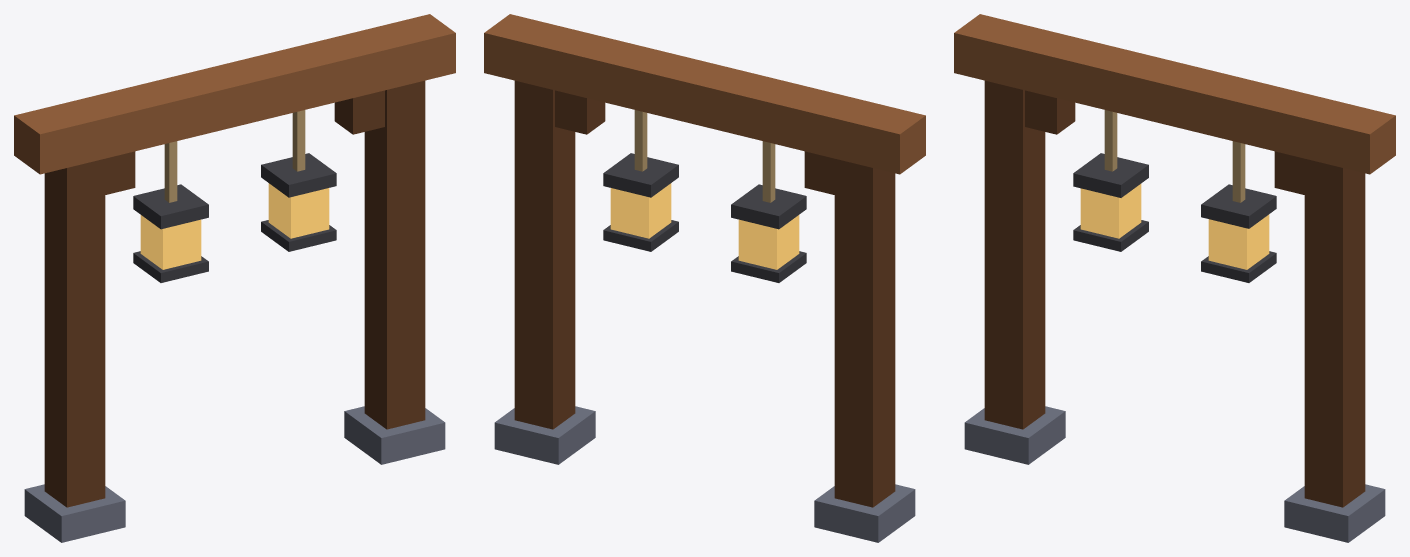
The model's file is WoodFrame.glb.
3 views of the same model, side by side, from view 1: azimuth 30°, elevation 25°; view 2: azimuth 150°, elevation 25°; view 3: azimuth 330°, elevation 25° (orthographic).
Parts seen in each view (by area): view 1: WoodFrame; view 2: WoodFrame; view 3: WoodFrame.
Boxes of the visible parts, x1=… form: WoodFrame: x1=14, y1=14, x2=455, y2=542; WoodFrame: x1=484, y1=14, x2=925, y2=542; WoodFrame: x1=954, y1=14, x2=1395, y2=542.
Size of the model in its own units: 13 by 12.2 by 2.
2 materials, 2 textured.
